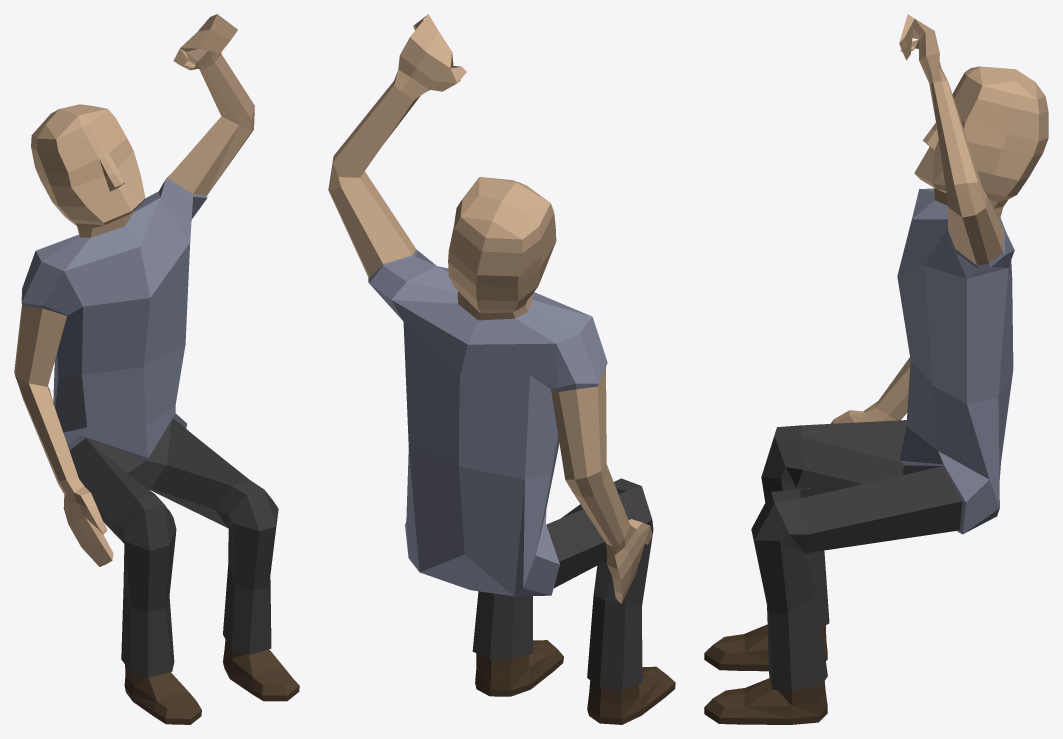
The model's file is Male_Sitting_Cheering.glb.
3 views of the same model, side by side, from view 1: azimuth 30°, elevation 25°; view 2: azimuth 150°, elevation 25°; view 3: azimuth 270°, elevation 25° (orthographic). The views are drawn at different scales.
Parts seen in each view (by area): view 1: Male_Sitting_Cheering; view 2: Male_Sitting_Cheering; view 3: Male_Sitting_Cheering.
Part boxes in pixels (bbox=[...]): Male_Sitting_Cheering: bbox=[14, 14, 299, 724]; Male_Sitting_Cheering: bbox=[328, 14, 675, 724]; Male_Sitting_Cheering: bbox=[704, 14, 1048, 724].
Size of the model in its own units: 1.45 by 3.61 by 1.59.
